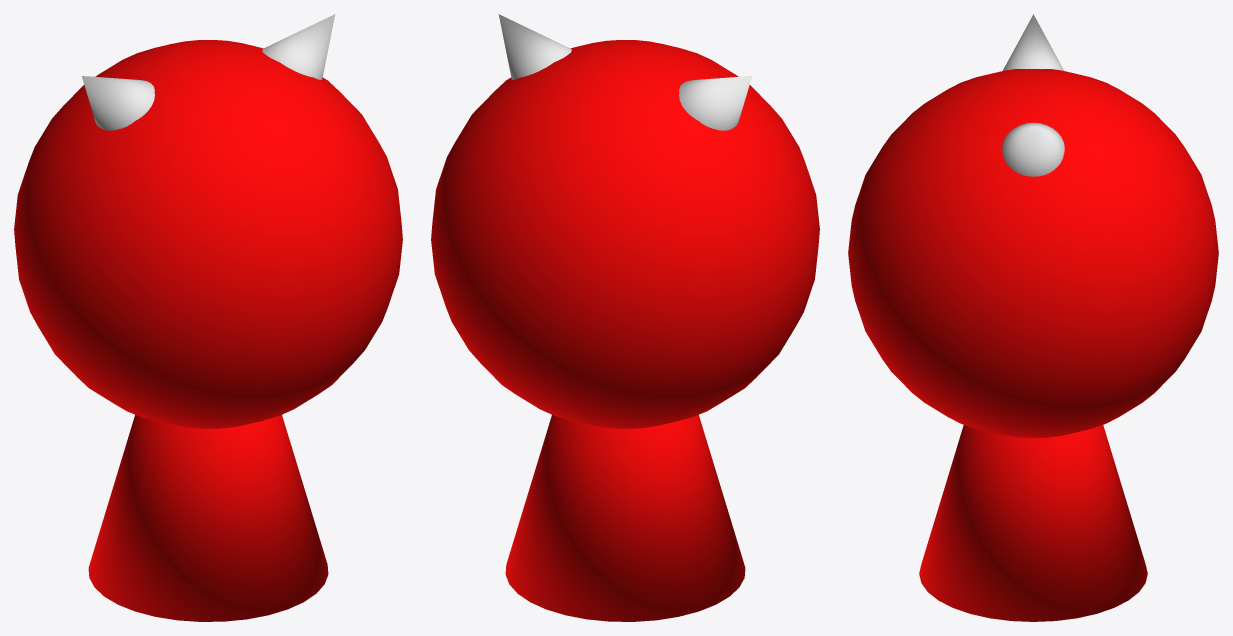
File: Orc.fbx
3 views of the same model, side by side, from view 1: azimuth 30°, elevation 25°; view 2: azimuth 150°, elevation 25°; view 3: azimuth 270°, elevation 25° (orthographic). The views are drawn at different scales.
Parts seen in each view (by area): view 1: Sphere, Cylinder, Cone; view 2: Sphere, Cylinder, Cone; view 3: Sphere, Cylinder, Cone.
Boxes of the visible parts, left/top/right/bottom form: Sphere: left=14, top=40, right=402, bottom=428; Cylinder: left=88, top=414, right=328, bottom=621; Cone: left=82, top=14, right=335, bottom=130; Sphere: left=431, top=40, right=819, bottom=428; Cylinder: left=505, top=414, right=745, bottom=621; Cone: left=498, top=14, right=751, bottom=130; Sphere: left=848, top=69, right=1218, bottom=438; Cylinder: left=919, top=425, right=1147, bottom=621; Cone: left=1002, top=14, right=1064, bottom=176.
Size of the model in its own units: 119 by 177 by 119.
